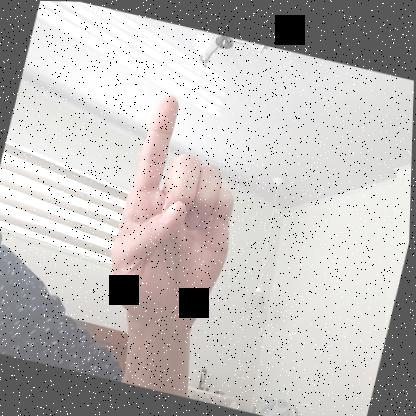D: (97, 87, 263, 329)
